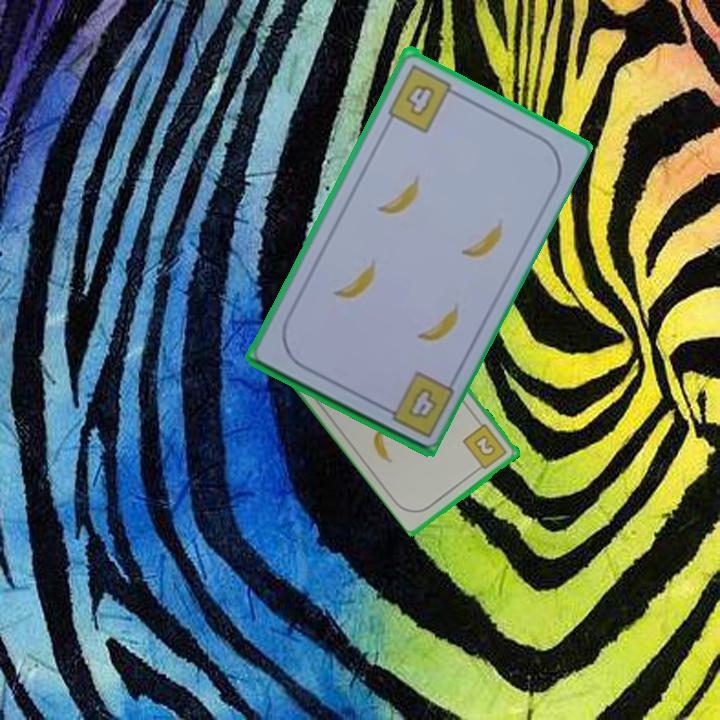2b: (460, 420, 510, 474)
4b: (384, 60, 462, 135), (404, 383, 440, 422)
